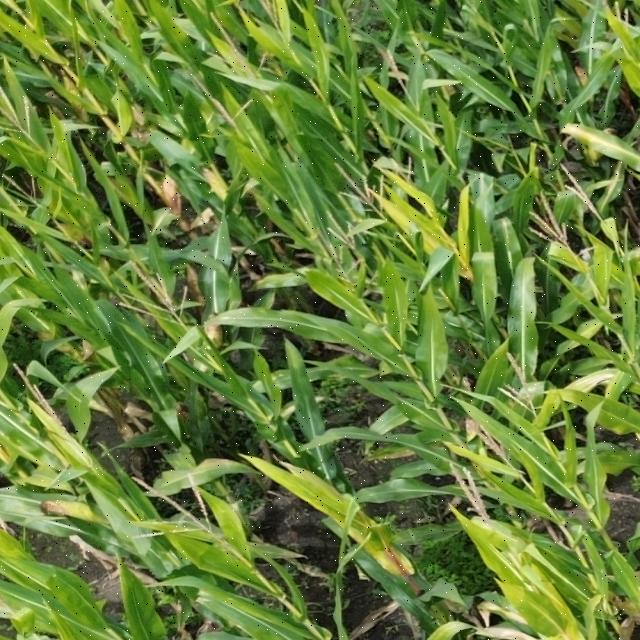gray-leaf-spot: (511, 587, 617, 640), (264, 353, 356, 388)
northern-leaf-blight: (553, 123, 640, 200)
